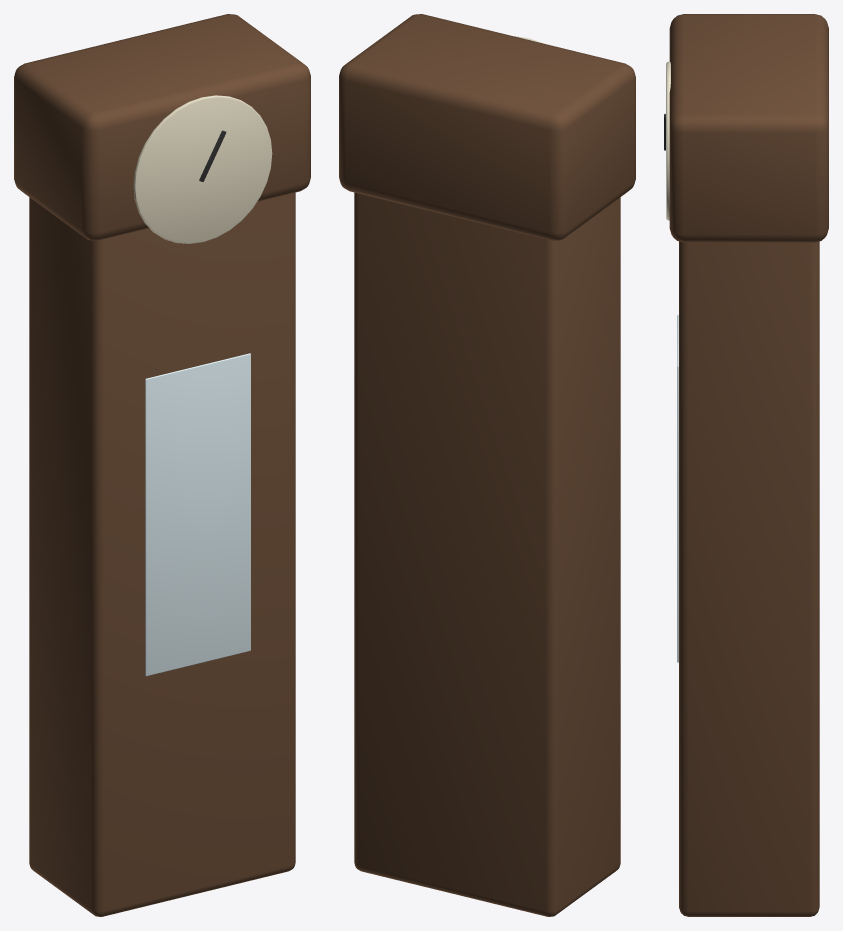
File: clock.glb
3 views of the same model, side by side, from view 1: azimuth 30°, elevation 25°; view 2: azimuth 150°, elevation 25°; view 3: azimuth 270°, elevation 25° (orthographic).
Parts seen in each view (by area): view 1: case, hood, window, face; view 2: case, hood; view 3: case, hood, window, face.
Boxes of the visible parts, x1=… form: case: x1=29, y1=56, x2=295, y2=916; hood: x1=14, y1=14, x2=310, y2=240; window: x1=145, y1=353, x2=250, y2=676; face: x1=133, y1=95, x2=272, y2=243; case: x1=354, y1=44, x2=620, y2=916; hood: x1=339, y1=14, x2=635, y2=240; case: x1=679, y1=61, x2=819, y2=916; hood: x1=669, y1=14, x2=828, y2=242; window: x1=677, y1=315, x2=678, y2=662; face: x1=666, y1=61, x2=670, y2=220.
Bounding box in the file's own units: 0.56 × 1.9 × 0.352.
